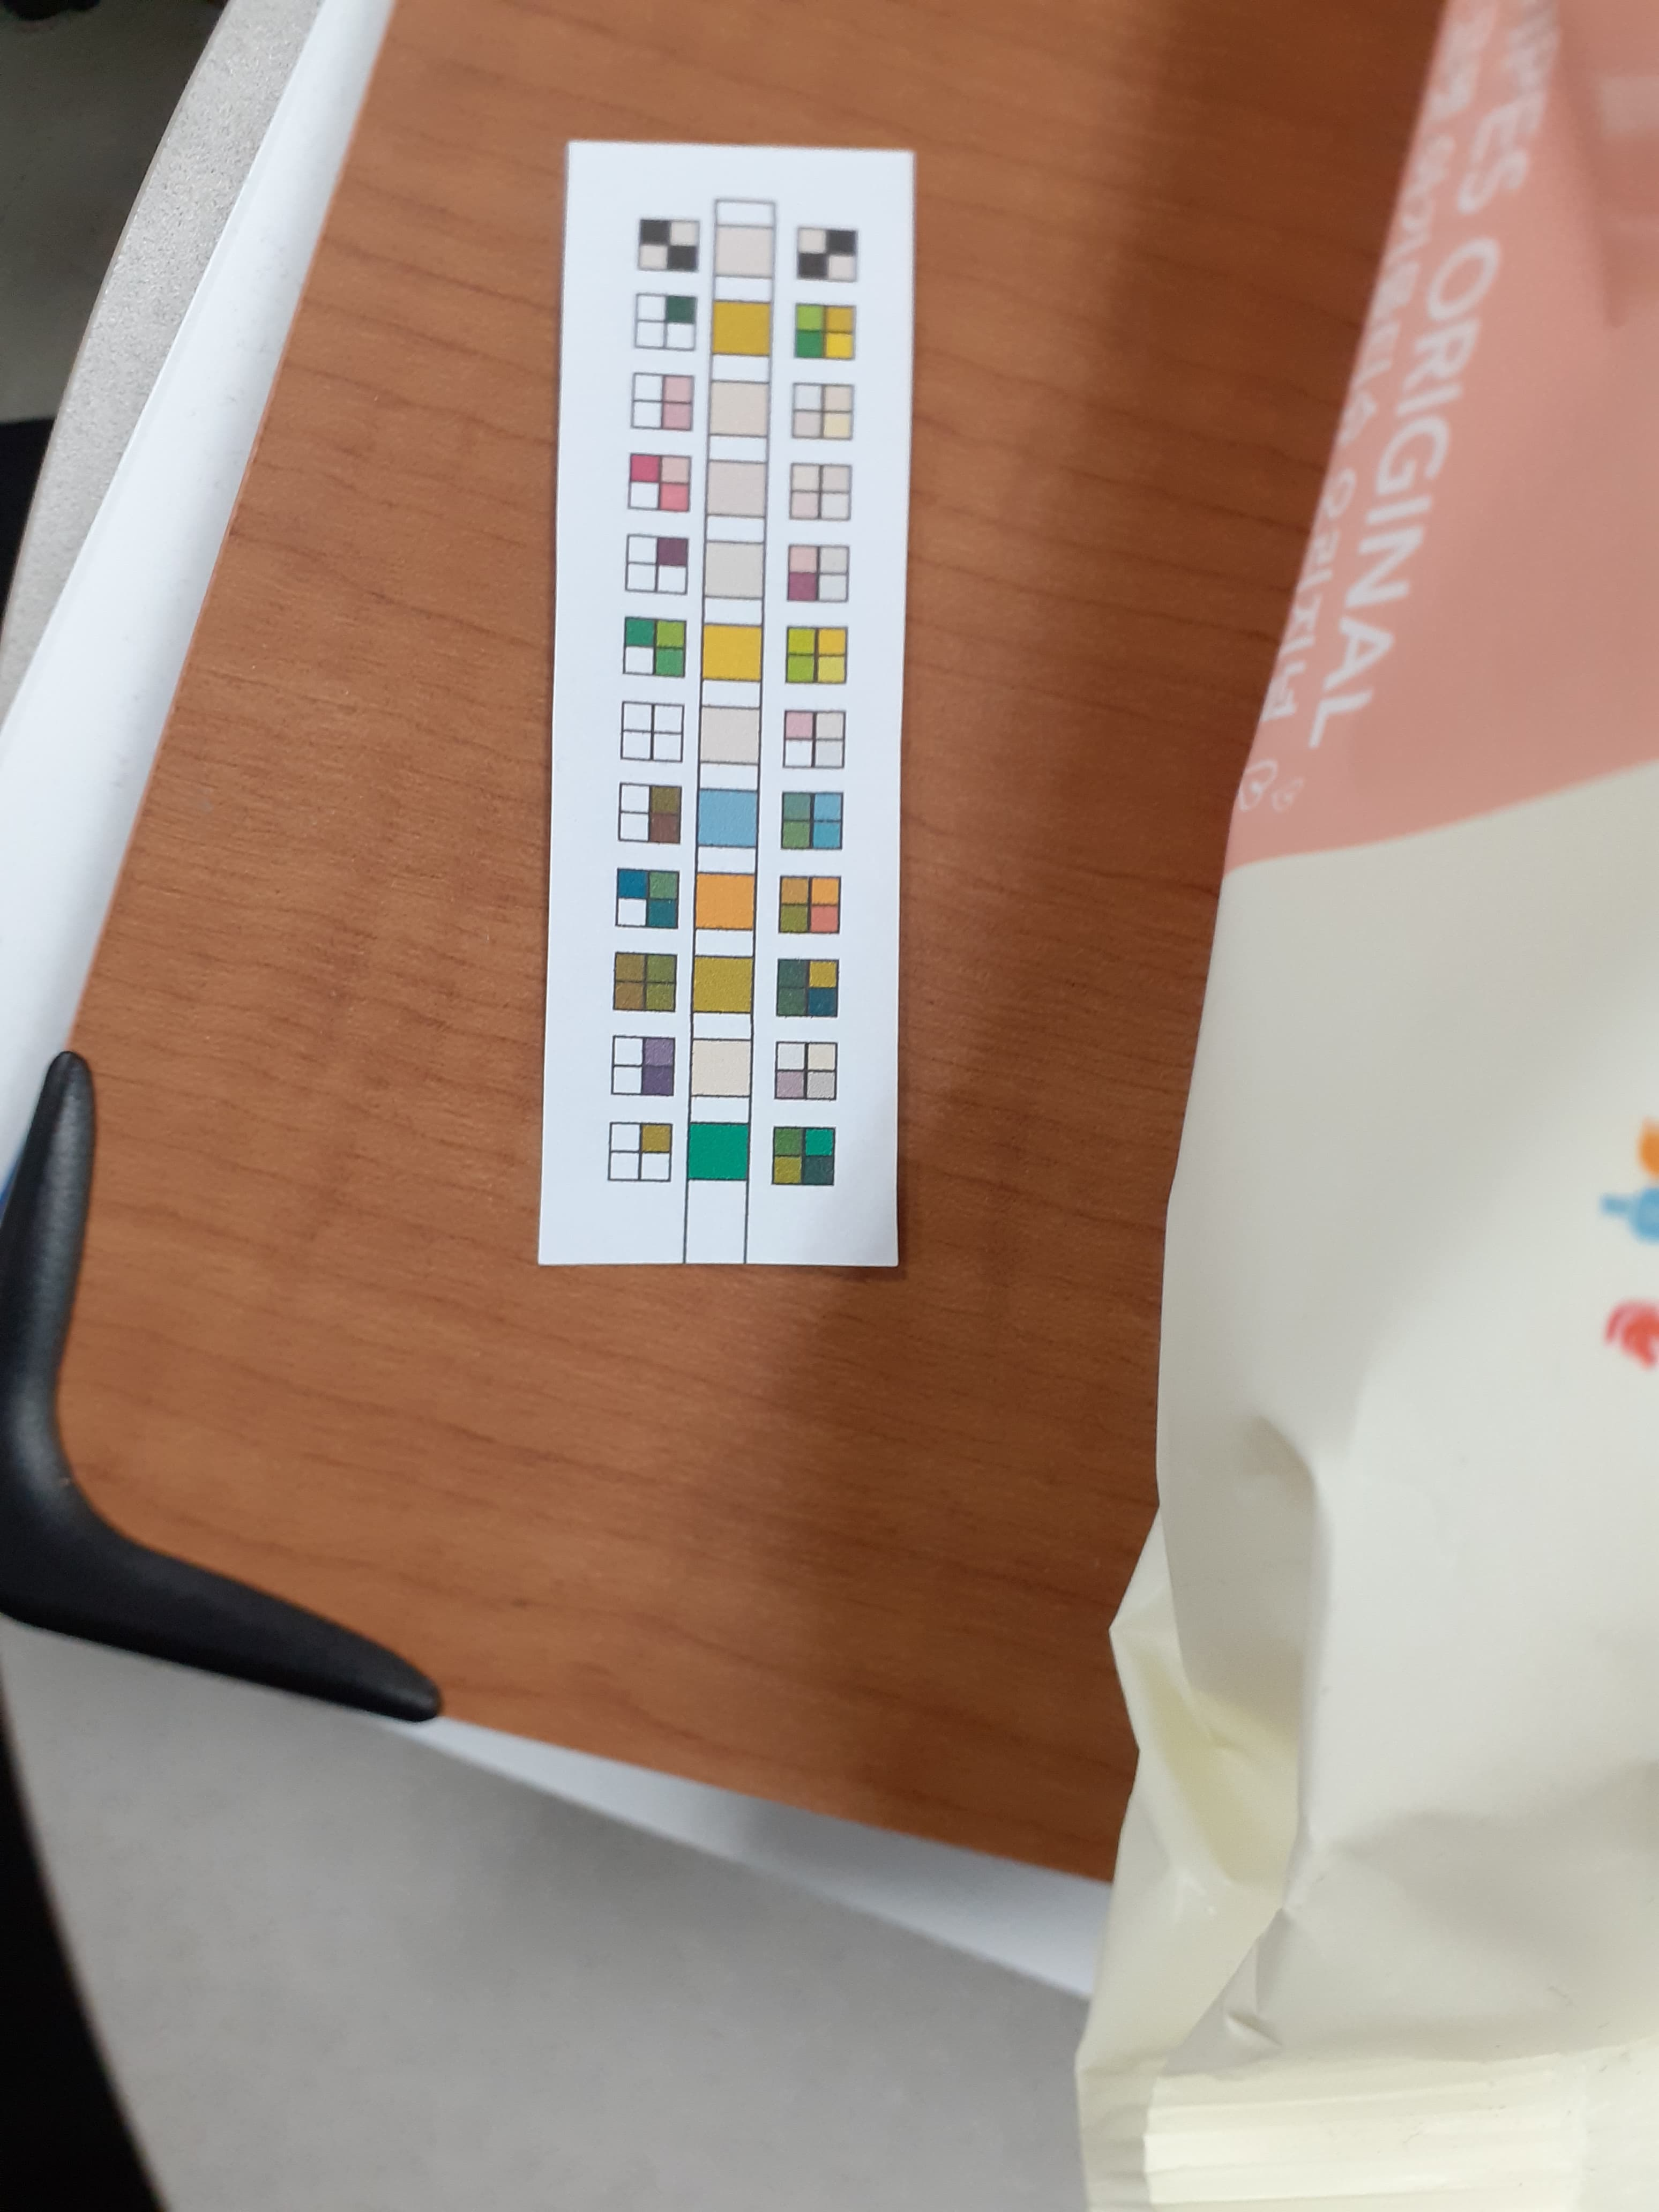tester: (568, 141, 894, 1271)
